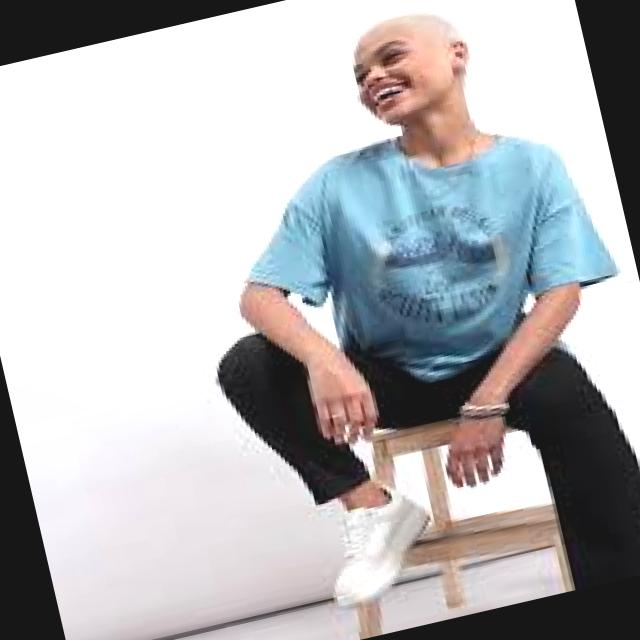face: (354, 25, 469, 125)
foot-wear: (333, 485, 431, 608)
lower-wear: (506, 346, 639, 589)
top-wear: (228, 99, 632, 410)
